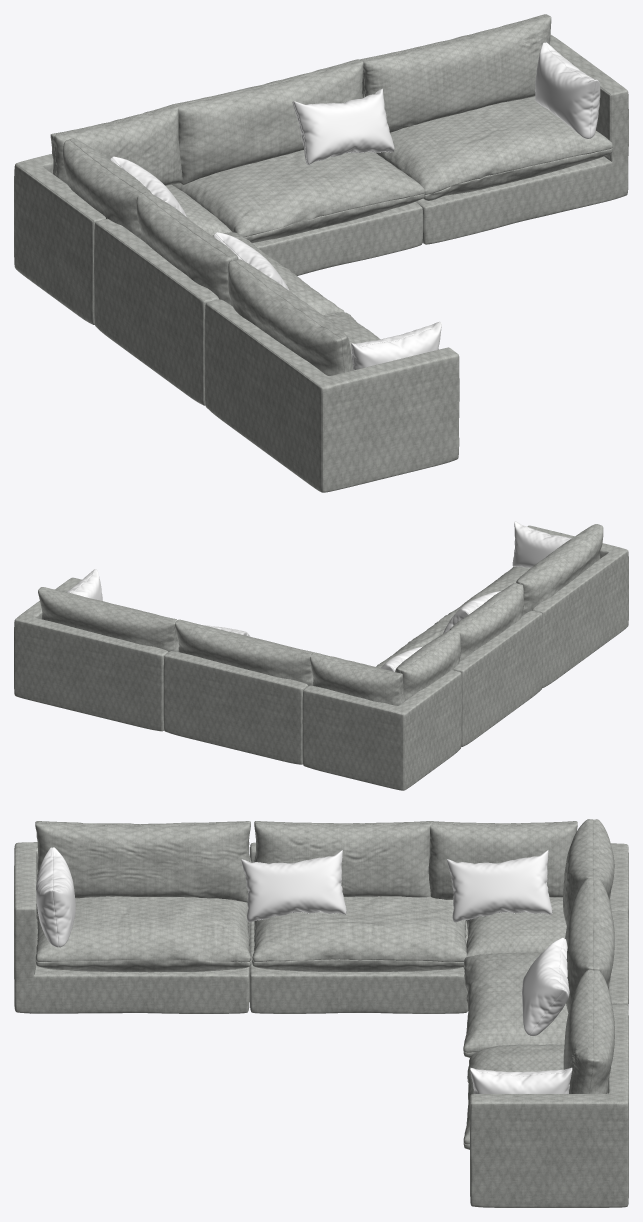
File: Sofa_Corner_2.glb
3 renders of one model, top to bottom at view 1: azimuth 30°, elevation 25°; view 2: azimuth 150°, elevation 25°; view 3: azimuth 270°, elevation 25°, orthographic. The views are drawn at different scales.
Visible parts, largest first — view 1: Unwind Right-Arm Slipcovered Chair.001, Cube.009, Cube.007, Cube.011, Cube.010, Cube.008, Cube.017, Cube.023; view 2: Unwind Right-Arm Slipcovered Chair.001, Cube.009, Cube.008, Cube.007, Cube.010, Cube.017; view 3: Unwind Right-Arm Slipcovered Chair.001, Cube.009, Cube.007, Cube.023, Cube.017, Cube.011, Cube.008, Cube.010.
Part boxes in pixels (x1,y1,x2,y2): Unwind Right-Arm Slipcovered Chair.001: [14, 34, 628, 492]; Cube.009: [50, 14, 551, 375]; Cube.007: [165, 96, 612, 358]; Cube.011: [292, 88, 394, 164]; Cube.010: [535, 42, 600, 138]; Cube.008: [351, 321, 441, 370]; Cube.017: [213, 232, 289, 290]; Cube.023: [110, 156, 186, 216]; Unwind Right-Arm Slipcovered Chair.001: [14, 525, 628, 790]; Cube.009: [38, 524, 603, 705]; Cube.008: [512, 521, 571, 568]; Cube.007: [178, 566, 529, 668]; Cube.010: [66, 569, 102, 600]; Cube.017: [443, 591, 500, 633]; Unwind Right-Arm Slipcovered Chair.001: [14, 842, 628, 1207]; Cube.009: [35, 819, 614, 1093]; Cube.007: [35, 896, 568, 1149]; Cube.023: [447, 850, 552, 922]; Cube.017: [241, 850, 346, 922]; Cube.011: [522, 937, 569, 1035]; Cube.008: [36, 847, 75, 947]; Cube.010: [470, 1067, 572, 1093].
Bounding box in the file's own units: 3.35 × 0.8634 × 3.34.
Materials: 3 (2 with a texture image).
